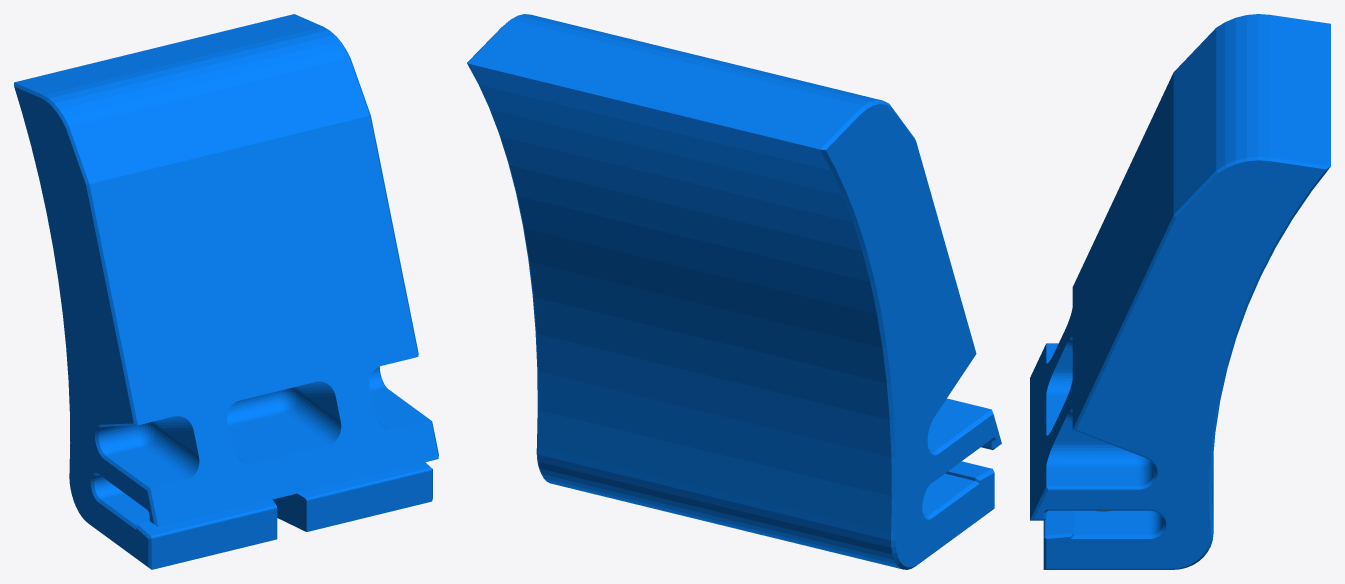
The picture shows the model from 3 angles, left to right: view 1: azimuth 30°, elevation 25°; view 2: azimuth 150°, elevation 25°; view 3: azimuth 270°, elevation 25°; orthographic projection. The views are drawn at different scales.
Parts seen in each view (by area): view 1: 3MFMeshParent_223; view 2: 3MFMeshParent_223; view 3: 3MFMeshParent_223.
Boxes of the visible parts, x1,y1,x2,y2 form: 3MFMeshParent_223: (14, 14, 438, 569); 3MFMeshParent_223: (467, 14, 1001, 569); 3MFMeshParent_223: (1030, 14, 1330, 569).
Size of the model in its own units: 0.126 by 0.1674 by 0.1105.
